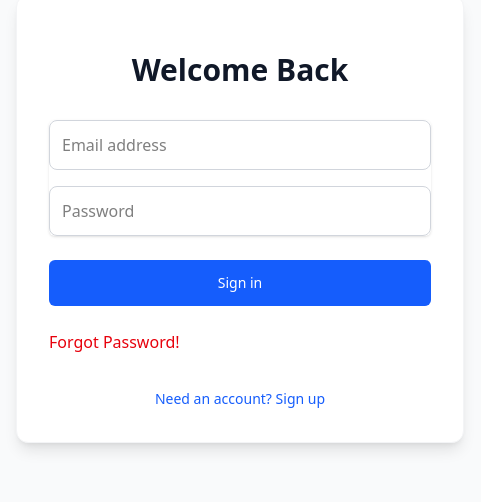
Test: AuthComponent › switches to signup form when toggle button is clicked
Click the button "Need an account? Sign up": [240, 399] box [155,389,325,409]
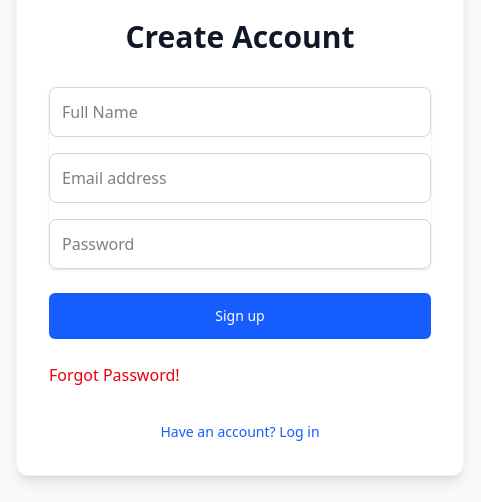
Check: the heading "Create Account" is shown, box [126,16,355,57]
Check: the button "Sign up" is shown, box [49,293,431,339]
Check: the field with placeholder "Full Name" is shown, box [49,87,431,137]
